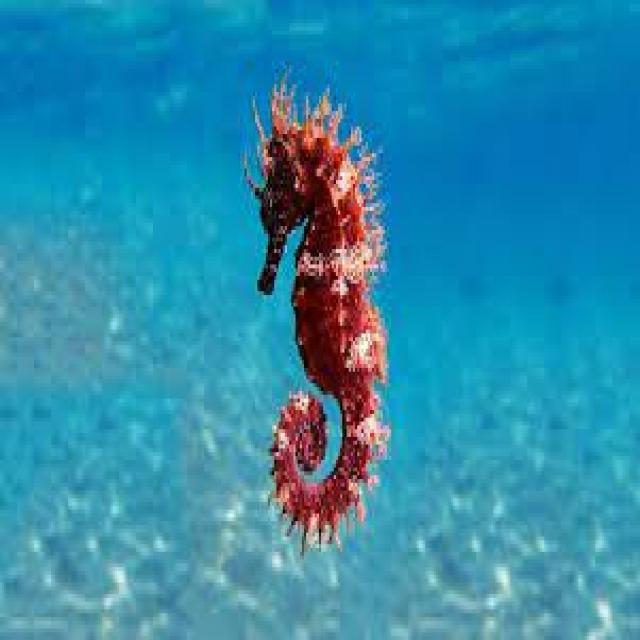SeaHorse: (249, 88, 389, 548)
